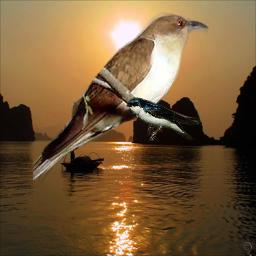Cuckoo: (33, 12, 209, 181)
Swallow: (126, 97, 203, 142)
